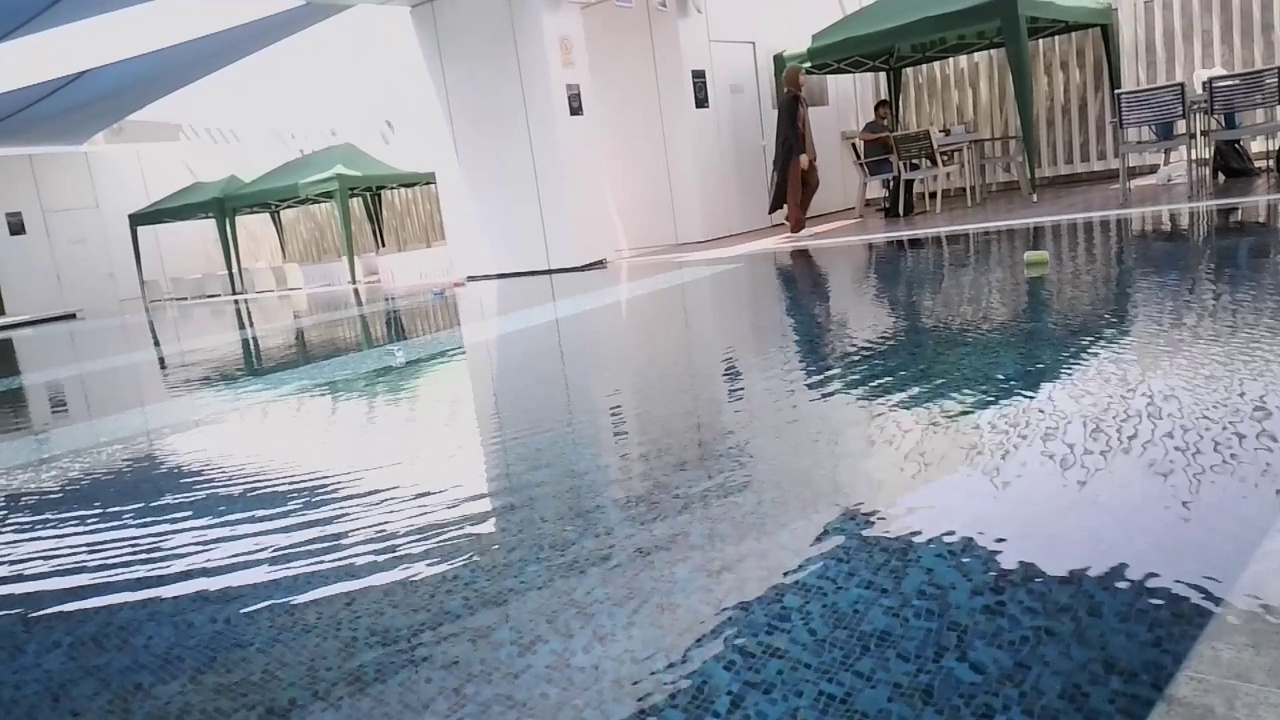debris: (1022, 244, 1053, 271), (381, 343, 405, 360), (426, 285, 448, 300), (450, 276, 468, 291)
